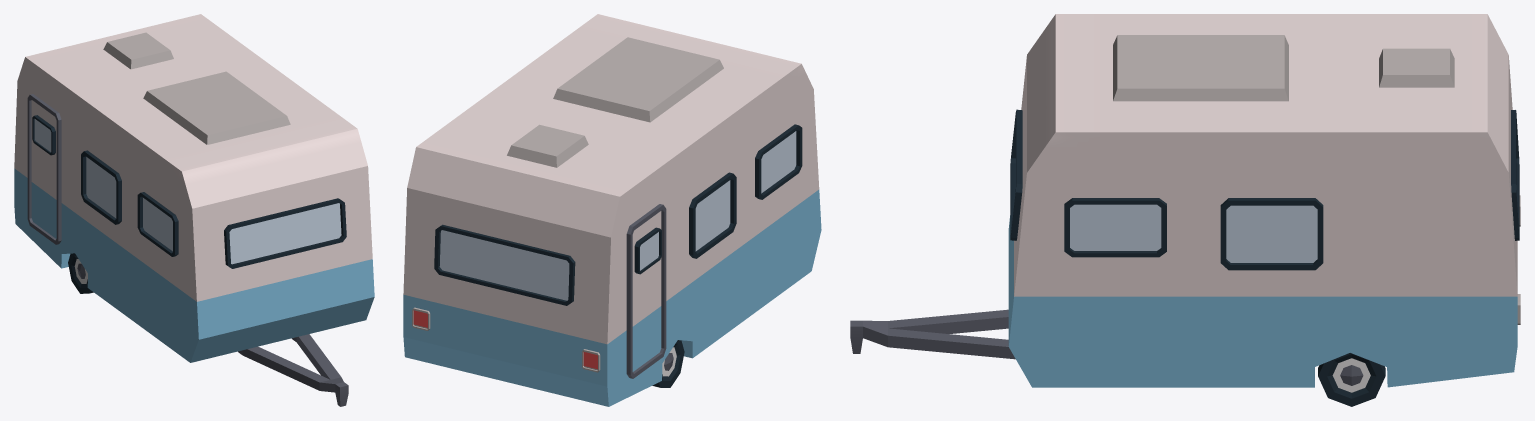
The model's file is CampTrailer02.fbx.
3 renders of one model, left to right at view 1: azimuth 30°, elevation 25°; view 2: azimuth 150°, elevation 25°; view 3: azimuth 270°, elevation 25°, orthographic. The views are drawn at different scales.
Visible parts, largest first — view 1: CampTrailer02; view 2: CampTrailer02; view 3: CampTrailer02.
Part boxes in pixels (left/top/right/bottom): CampTrailer02: left=14, top=14, right=374, bottom=406; CampTrailer02: left=403, top=14, right=821, bottom=406; CampTrailer02: left=850, top=14, right=1520, bottom=406.
Bounding box in the file's own units: 89.9 × 206 × 98.3.
